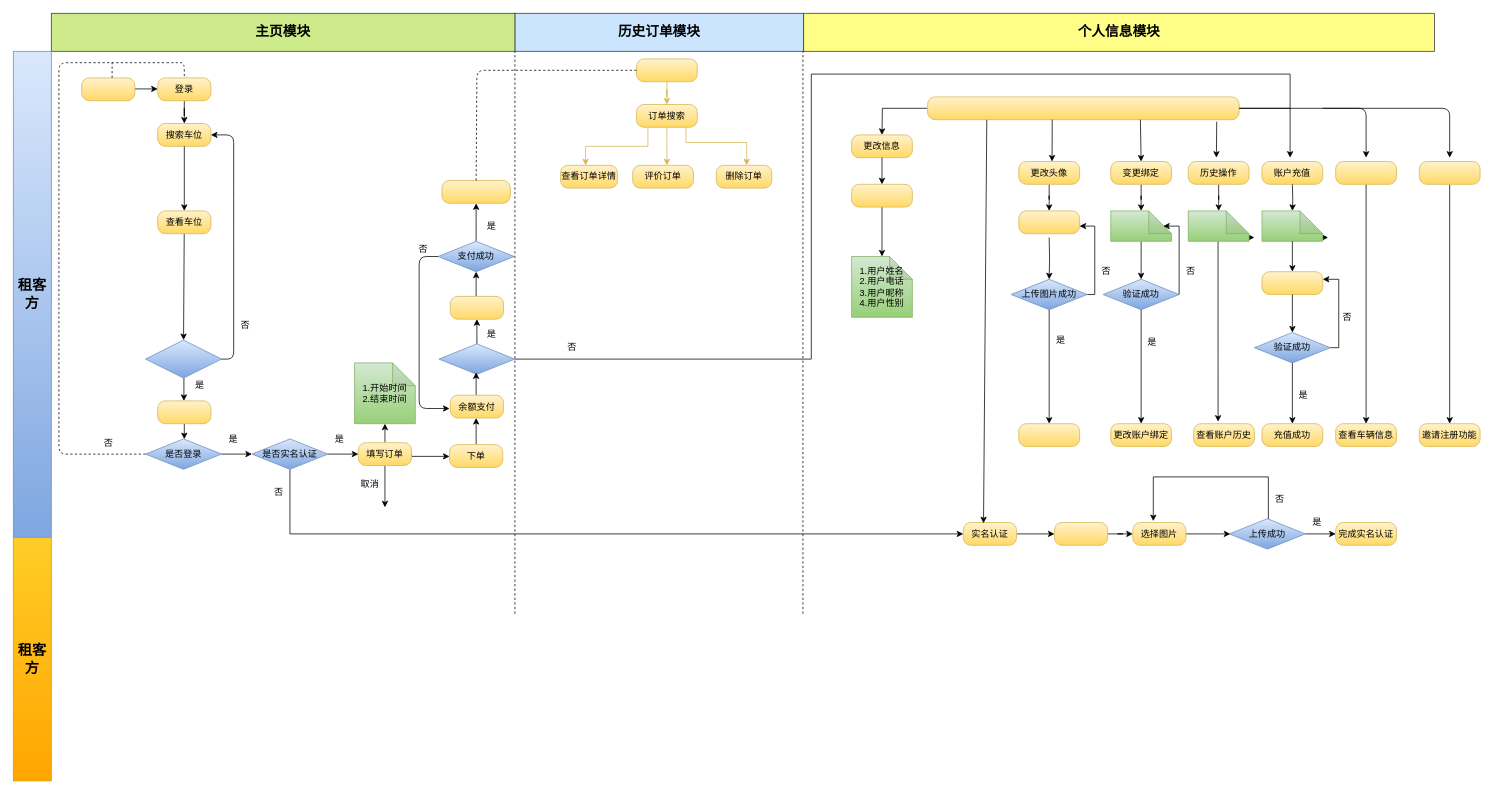
The diagram is 1493 pixels wide and 794 high, and some of its shapes have lost their labels. The centre of each missing label's shape, as x and y in pixels:
"上传个人身份证图片" goes at [1081,533].
"个人信息框" goes at [1083,108].
"个人车辆信息" goes at [1365,172].
"付款" goes at [1292,282].
"余额是否足够" goes at [476,358].
"修改个人信息" goes at [881,195].
"填写账户" goes at [1141,225].
"头像更改" goes at [1049,434].
"支付" goes at [477,307].
"查看历史订单" goes at [666,70].
"注册" goes at [108,89].
"生成二维码" goes at [1449,172].
"生成订单信息" goes at [475,191].
"筛选条件" goes at [1218,225].
"车位抢购" goes at [184,412].
"车位是否可用" goes at [183,358].
"输入充值数额" goes at [1292,225].
"选择头像" goes at [1049,222].
